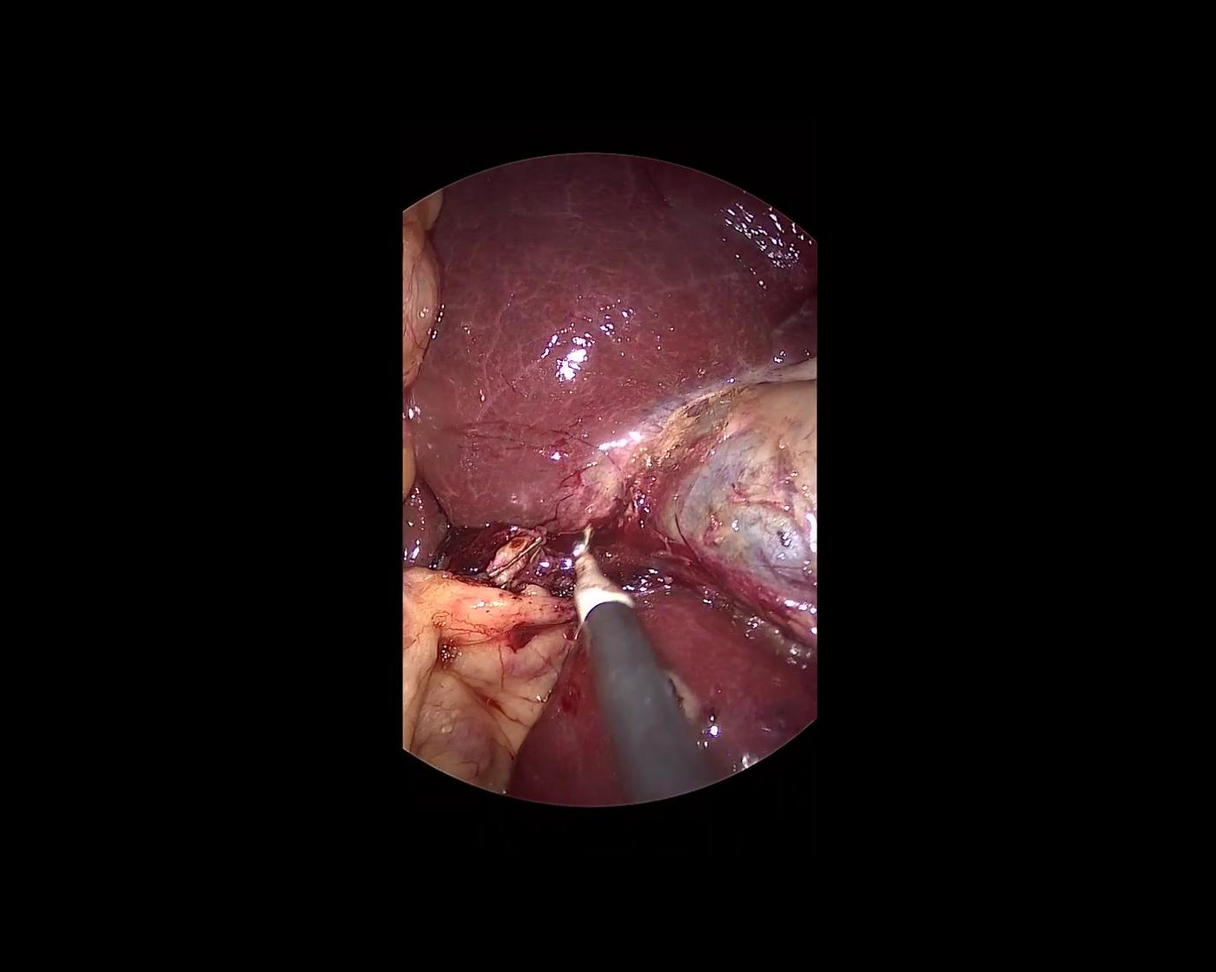Cautery: (559, 519, 706, 803)
Gallbladder: (653, 359, 814, 651)
Liver: (396, 139, 830, 564), (461, 548, 840, 835)
